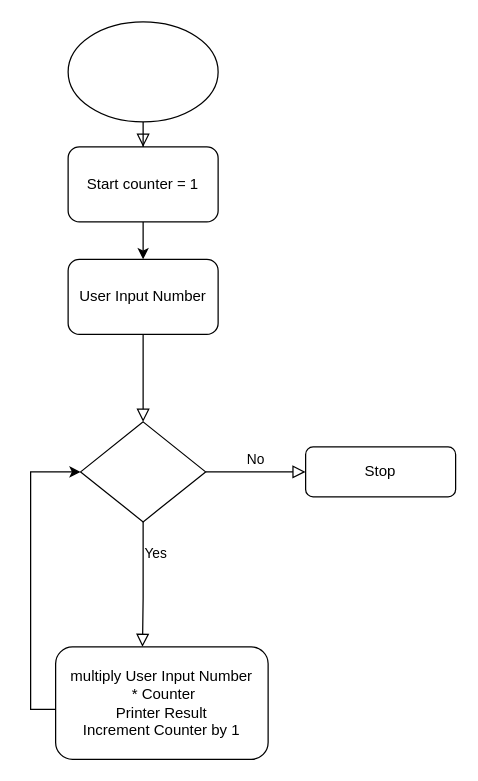
Image size: 478x781. Some labels were removed from this diagram. The centre of each missing label's shape, as x and y in pixels:
Is counter < 11: (x=142, y=471)
Start: (x=142, y=71)
